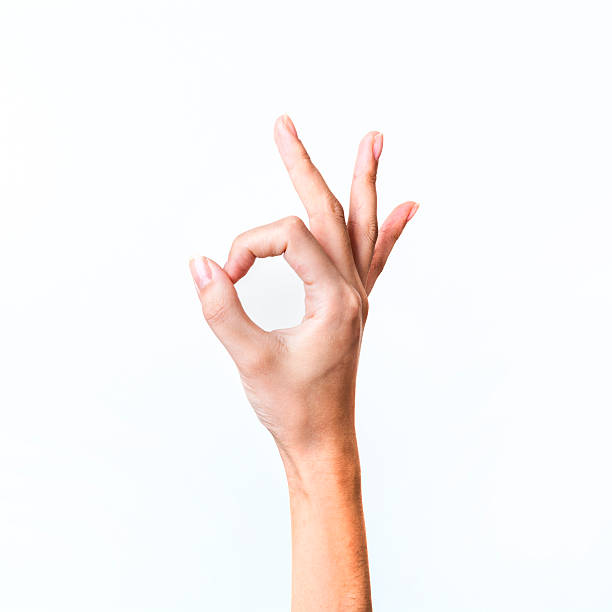oksign: (191, 115, 415, 437)
